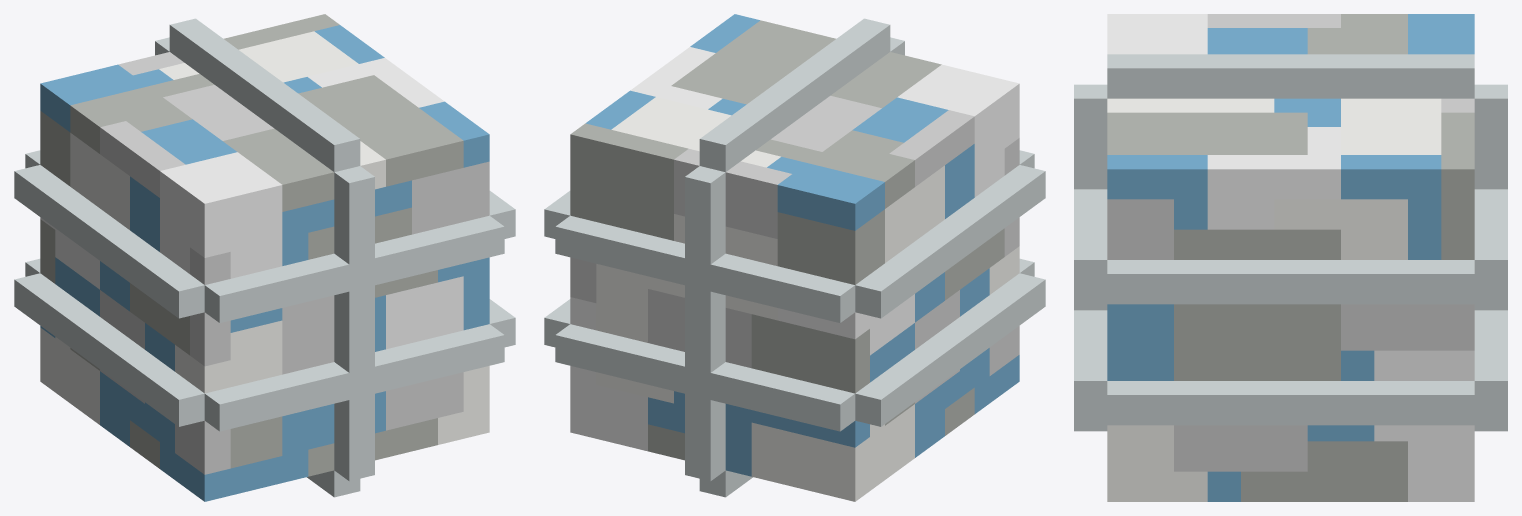
The model's file is plastic.gltf.
3 renders of one model, left to right at view 1: azimuth 30°, elevation 25°; view 2: azimuth 150°, elevation 25°; view 3: azimuth 270°, elevation 25°, orthographic. The views are drawn at different scales.
Parts seen in each view (by area): view 1: Object_0; view 2: Object_0; view 3: Object_0.
Boxes of the visible parts, x1,y1,x2,y2 form: Object_0: [14, 14, 515, 501]; Object_0: [544, 14, 1045, 501]; Object_0: [1074, 14, 1507, 501].
Size of the model in its own units: 1.3 by 1.3 by 1.3.
Materials: 1 (1 with a texture image).
